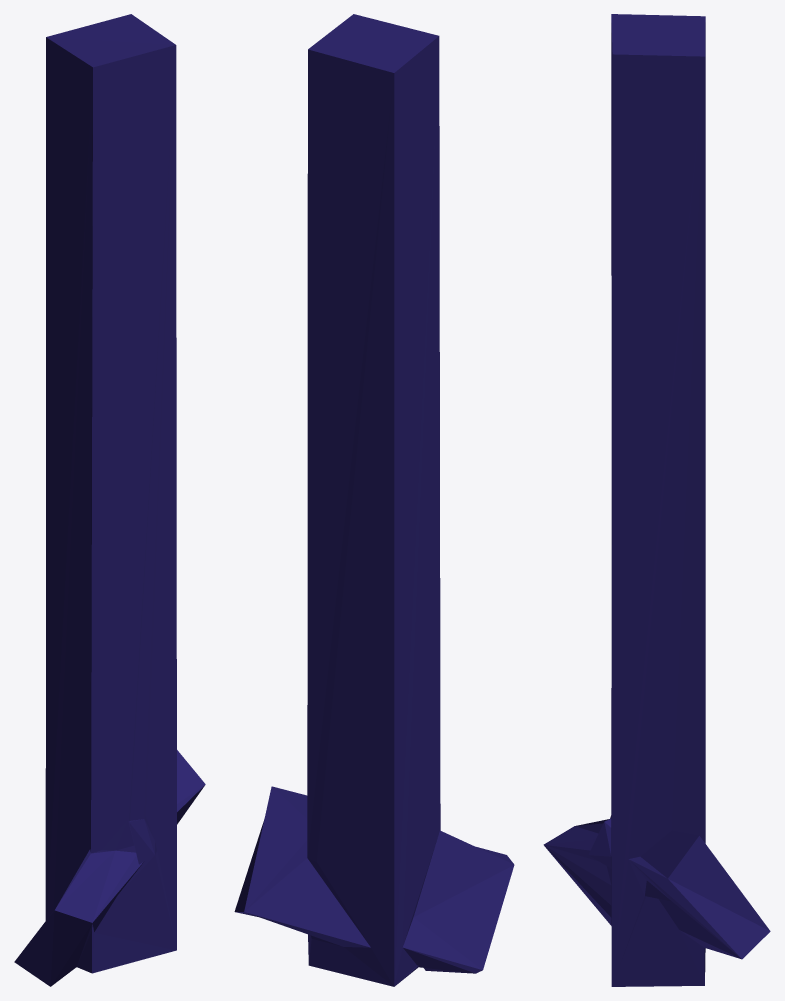
3 views of the same model, side by side, from view 1: azimuth 30°, elevation 25°; view 2: azimuth 150°, elevation 25°; view 3: azimuth 270°, elevation 25° (orthographic). The views are drawn at different scales.
Visible parts, largest first — view 1: 439_Cube.1780; view 2: 439_Cube.1780; view 3: 439_Cube.1780.
Part boxes in pixels (x1=…): 439_Cube.1780: x1=14, y1=14, x2=205, y2=986; 439_Cube.1780: x1=234, y1=14, x2=514, y2=986; 439_Cube.1780: x1=543, y1=14, x2=770, y2=986.
Size of the model in its own units: 2.79 by 12.12 by 2.65.
